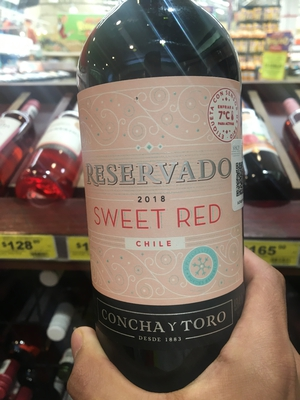reservado sweet red: (70, 13, 259, 384)
